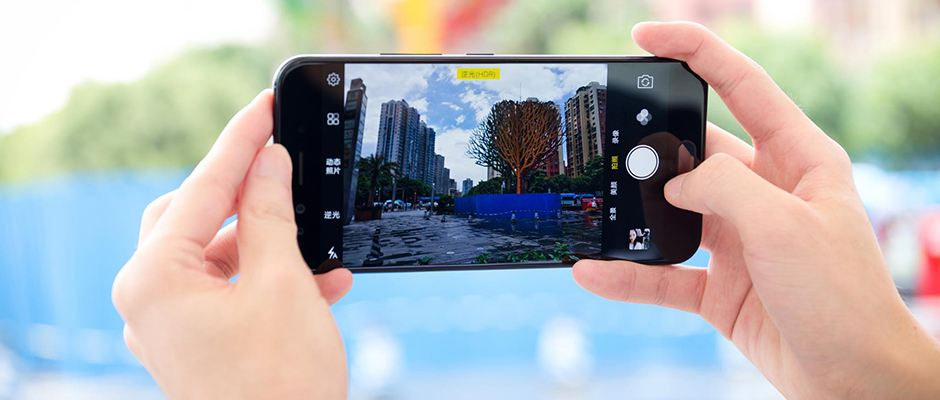taking photos: (110, 12, 927, 394)
